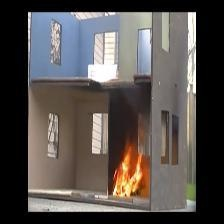fire: (108, 145, 151, 200)
